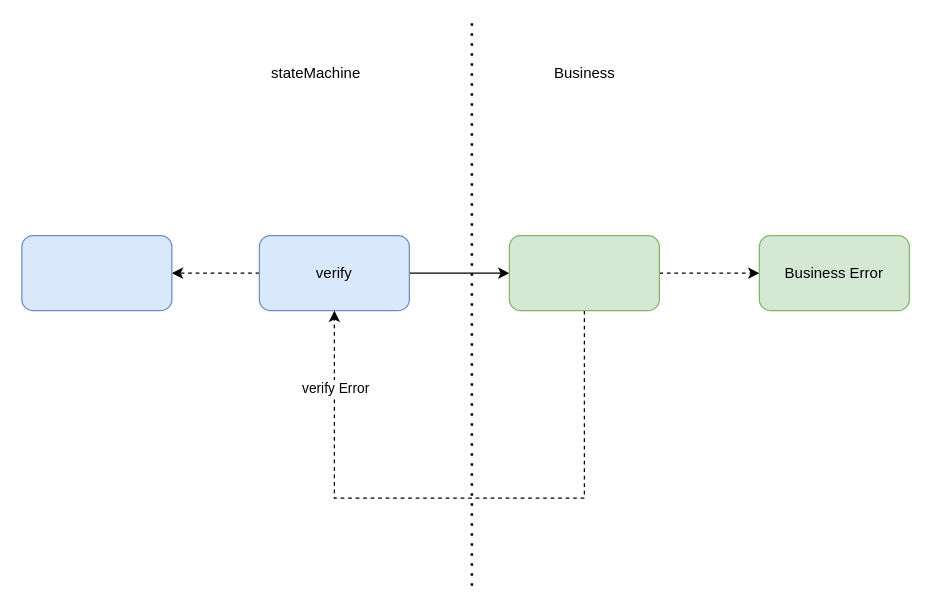
The diagram is 931 pixels wide and 609 high, and some of its shapes have lost their labels. The centre of each missing label's shape, as x and y in pixels:
"Fail" belongs at (x=96, y=272).
"onErrorHandle" belongs at (x=583, y=272).
